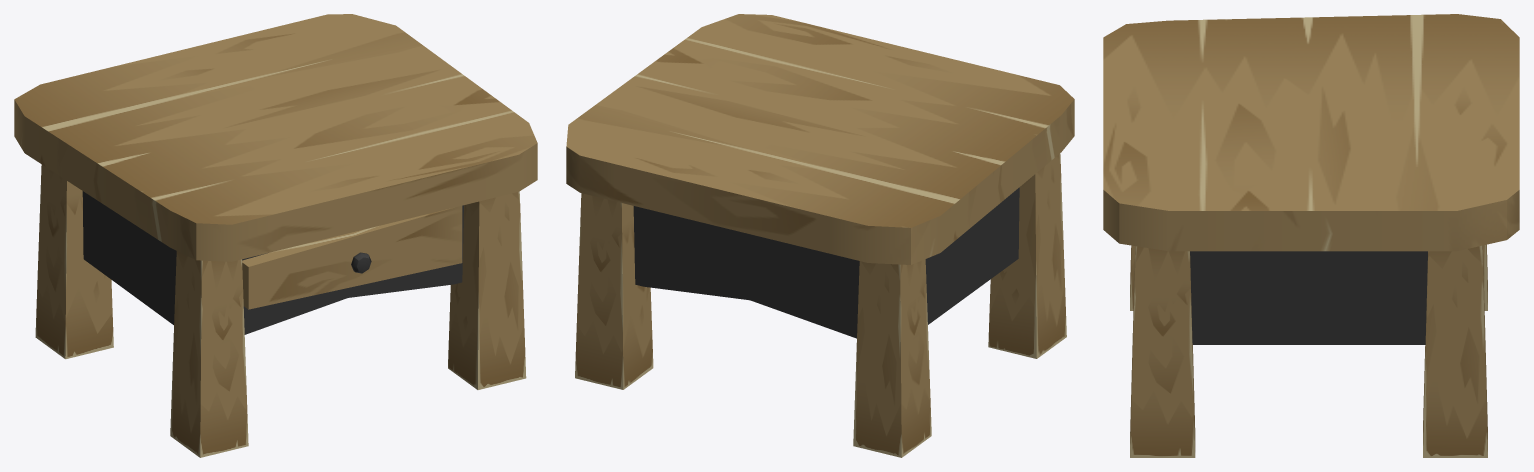
The model's file is table.fbx.
The picture shows the model from 3 angles, left to right: view 1: azimuth 30°, elevation 25°; view 2: azimuth 150°, elevation 25°; view 3: azimuth 270°, elevation 25°; orthographic projection. The views are drawn at different scales.
Visible parts, largest first — view 1: polySurface35; view 2: polySurface35; view 3: polySurface35.
Part boxes in pixels (x1,y1,x2,y2): polySurface35: [14, 14, 537, 457]; polySurface35: [566, 14, 1074, 457]; polySurface35: [1103, 14, 1519, 457].
Size of the model in its own units: 9.79 by 5.98 by 8.74.
